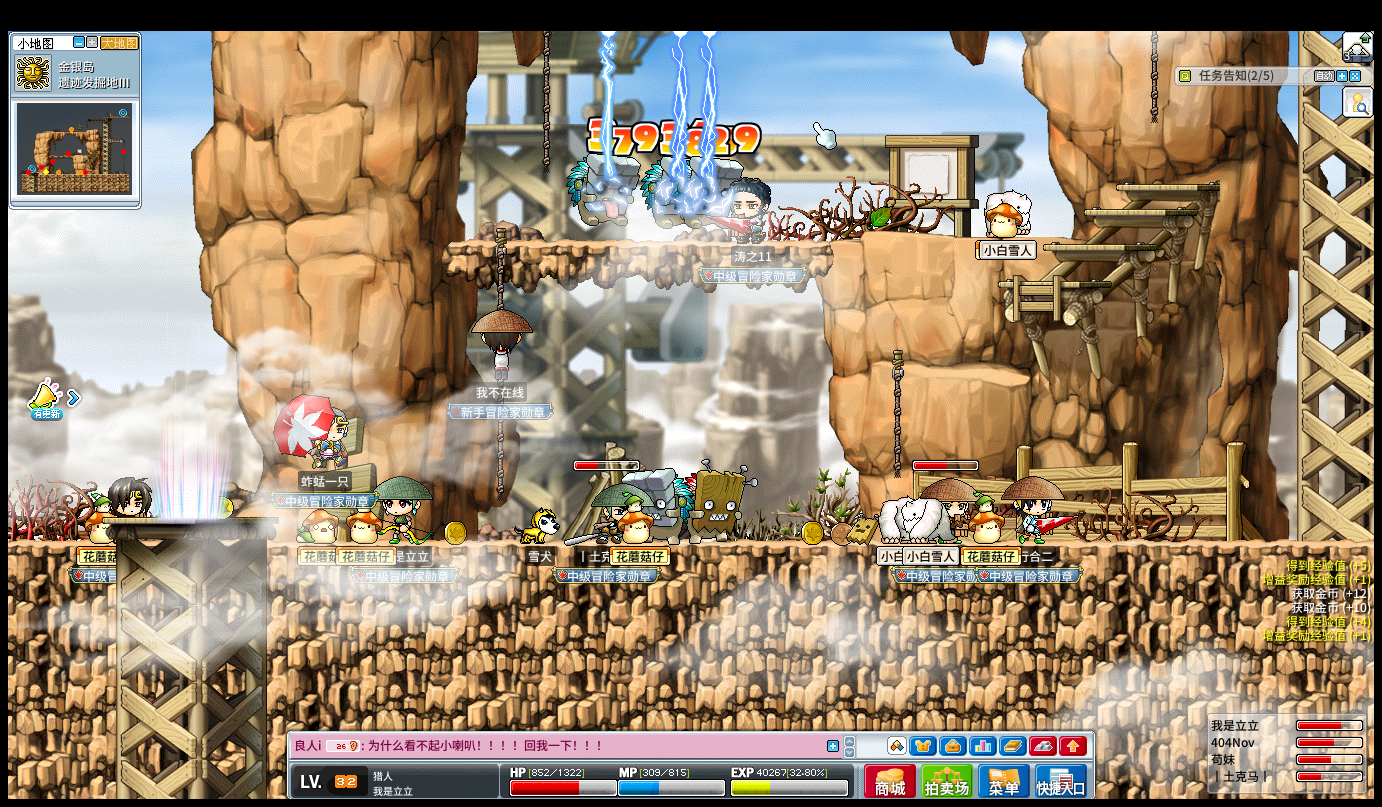floor: (267, 537, 1374, 551), (442, 236, 835, 249), (924, 364, 1031, 385), (102, 516, 280, 525), (926, 233, 1078, 242), (8, 539, 125, 550), (1079, 207, 1192, 216), (996, 280, 1107, 289), (1115, 182, 1219, 190), (1043, 243, 1160, 250), (1116, 184, 1220, 191)
monster: (564, 153, 637, 239), (641, 156, 710, 235), (685, 463, 753, 542), (706, 157, 744, 203)
rope: (891, 348, 907, 476), (889, 349, 903, 479), (492, 229, 506, 309), (543, 31, 550, 175), (1148, 31, 1157, 121), (496, 425, 504, 497)
